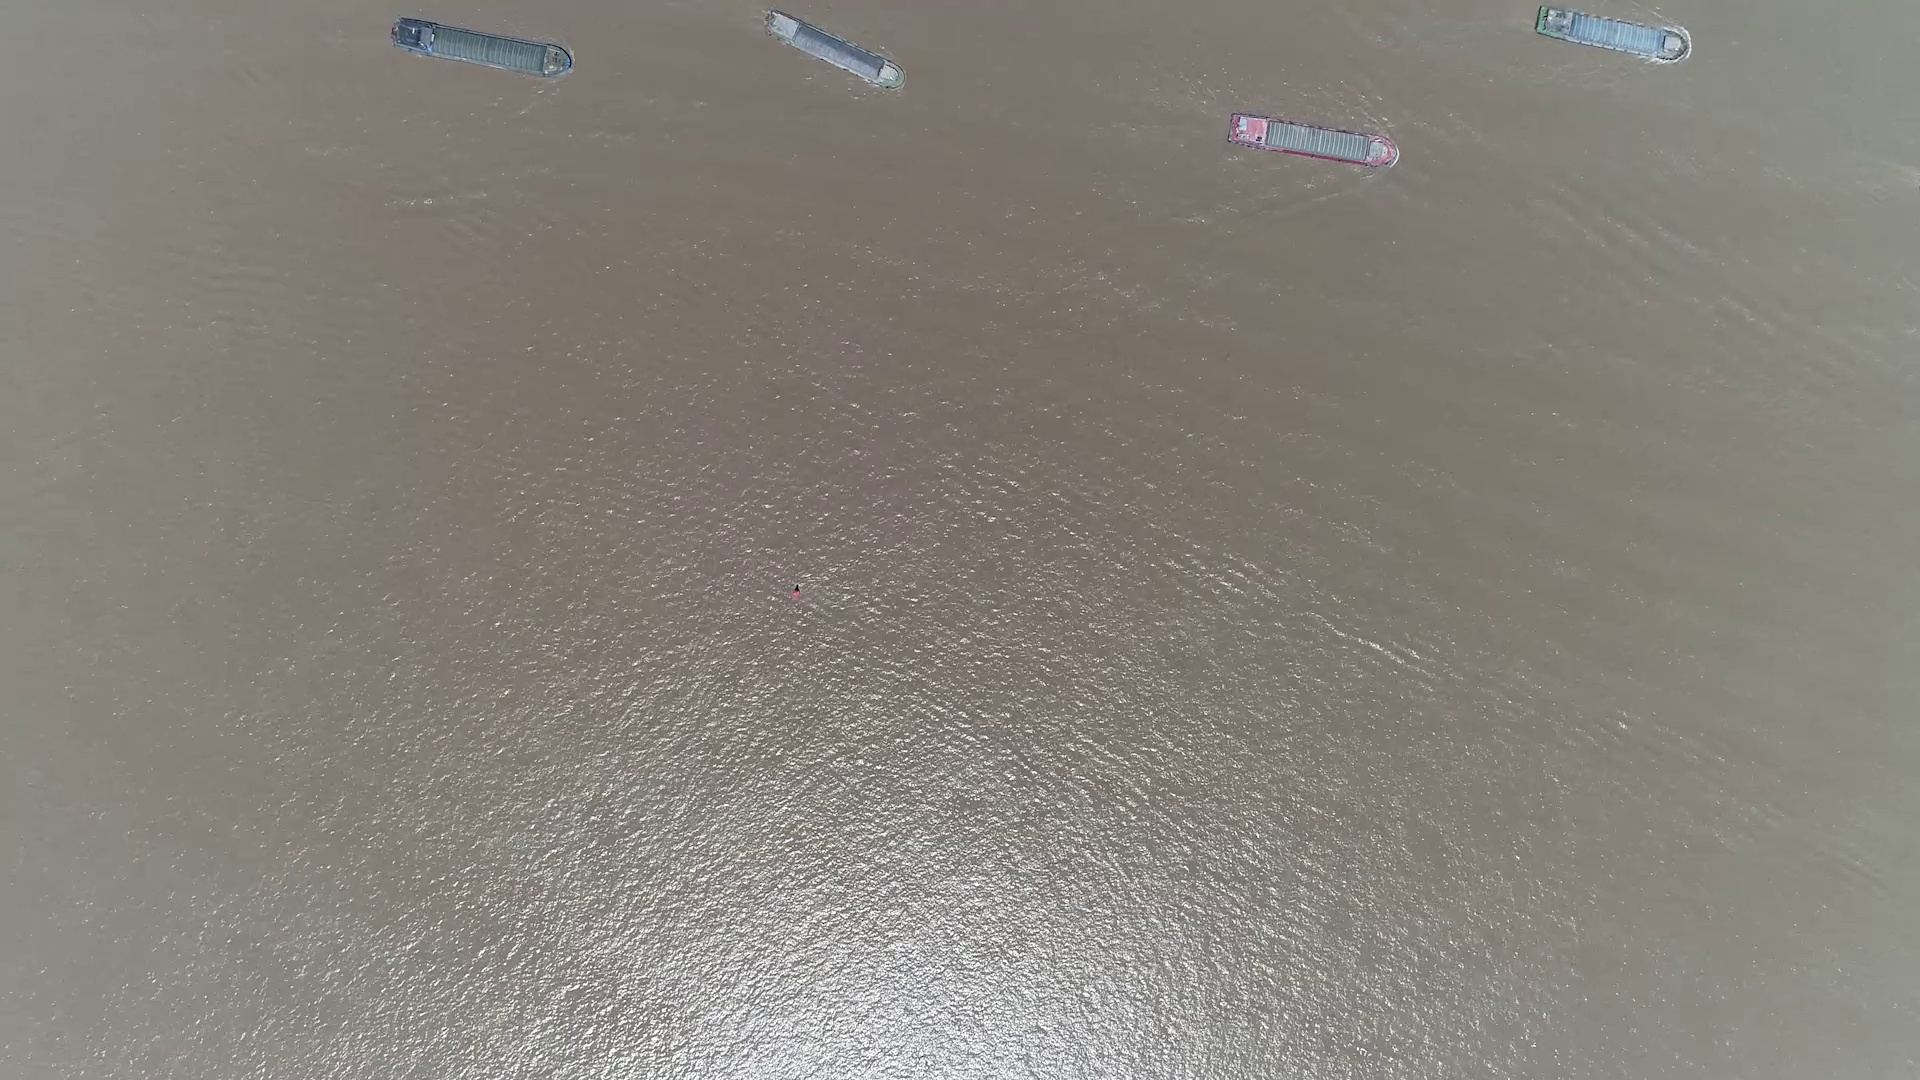ship: (764, 9, 905, 94), (392, 16, 574, 78), (1226, 116, 1400, 167), (1534, 7, 1689, 59)
